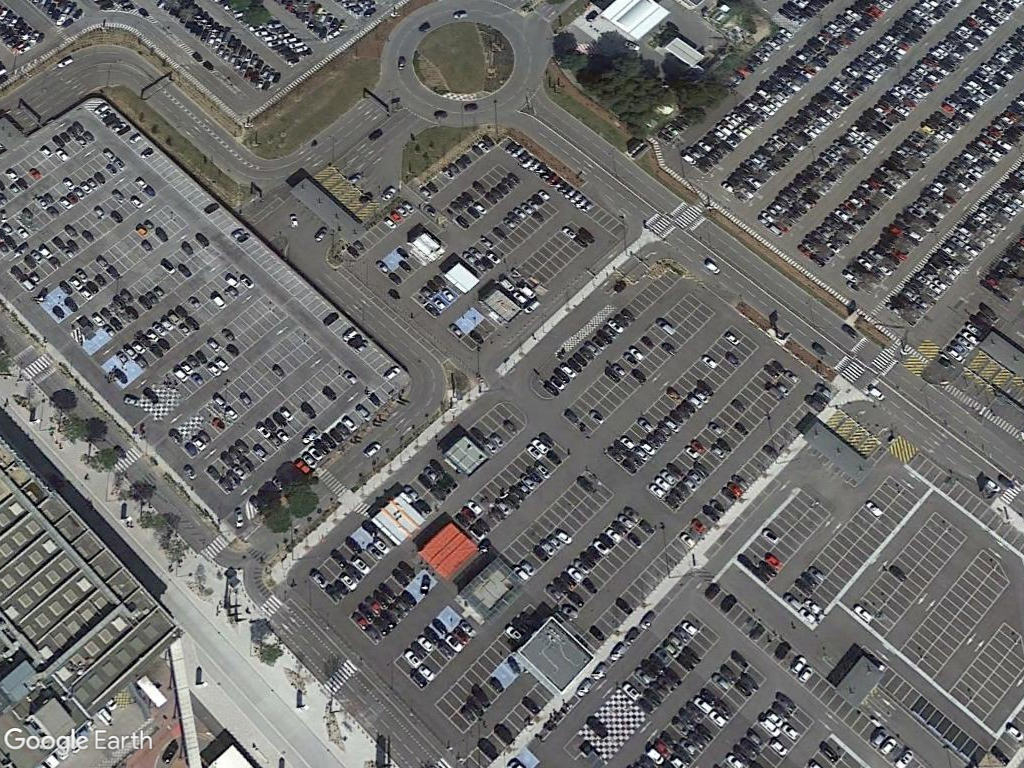van: (211, 292, 230, 313)
